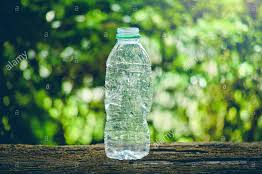plastic: (99, 25, 158, 161)
